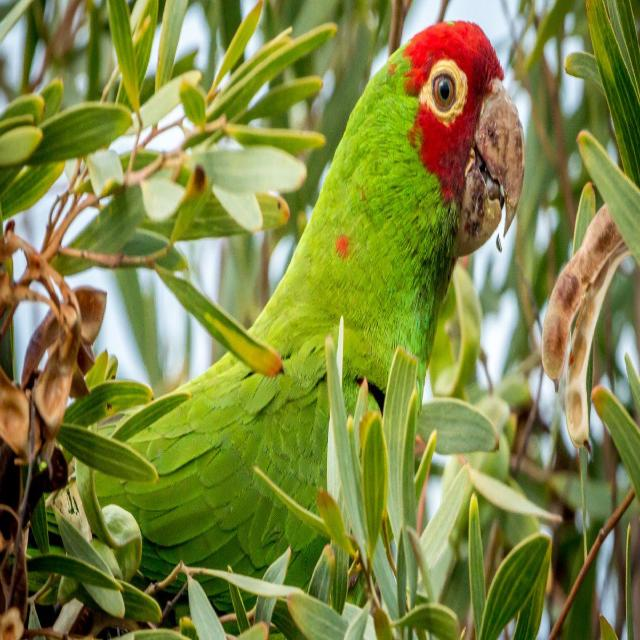Parrot: (76, 24, 524, 522)
